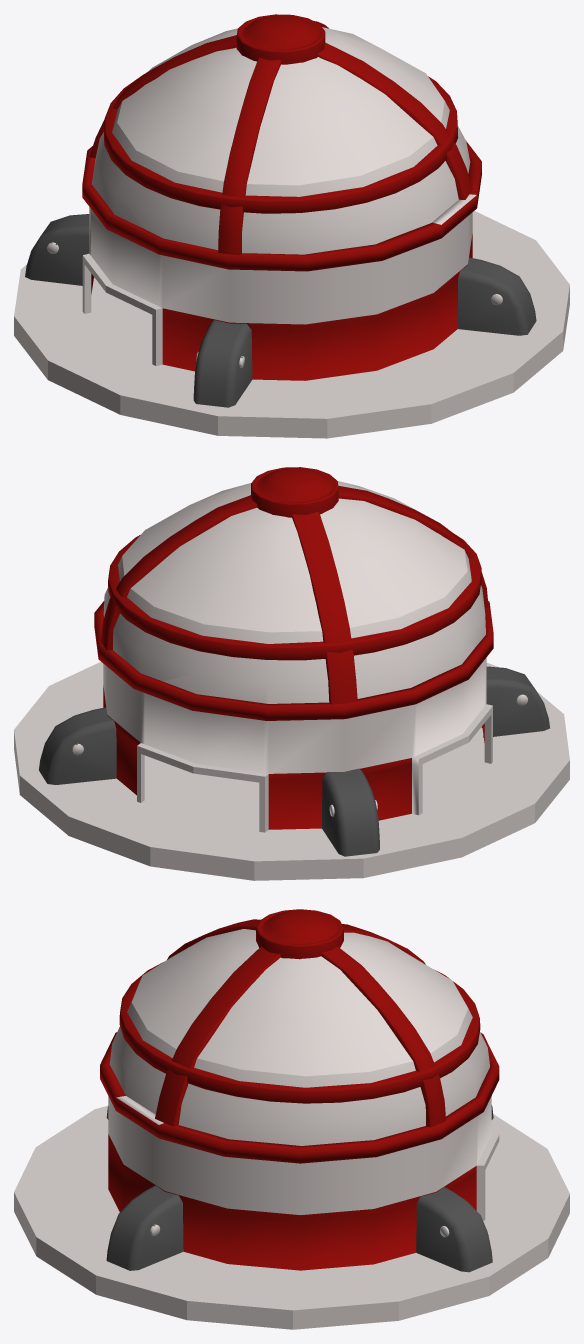
The model's file is colony_house.fbx.
3 renders of one model, top to bottom at view 1: azimuth 30°, elevation 25°; view 2: azimuth 150°, elevation 25°; view 3: azimuth 270°, elevation 25°, orthographic.
Parts seen in each view (by area): view 1: Cylinder; view 2: Cylinder; view 3: Cylinder.
Part boxes in pixels (x1,y1,x2,y2): Cylinder: (14, 14, 569, 438); Cylinder: (14, 467, 569, 880); Cylinder: (14, 909, 569, 1329).
Size of the model in its own units: 1385 by 802 by 1385.
